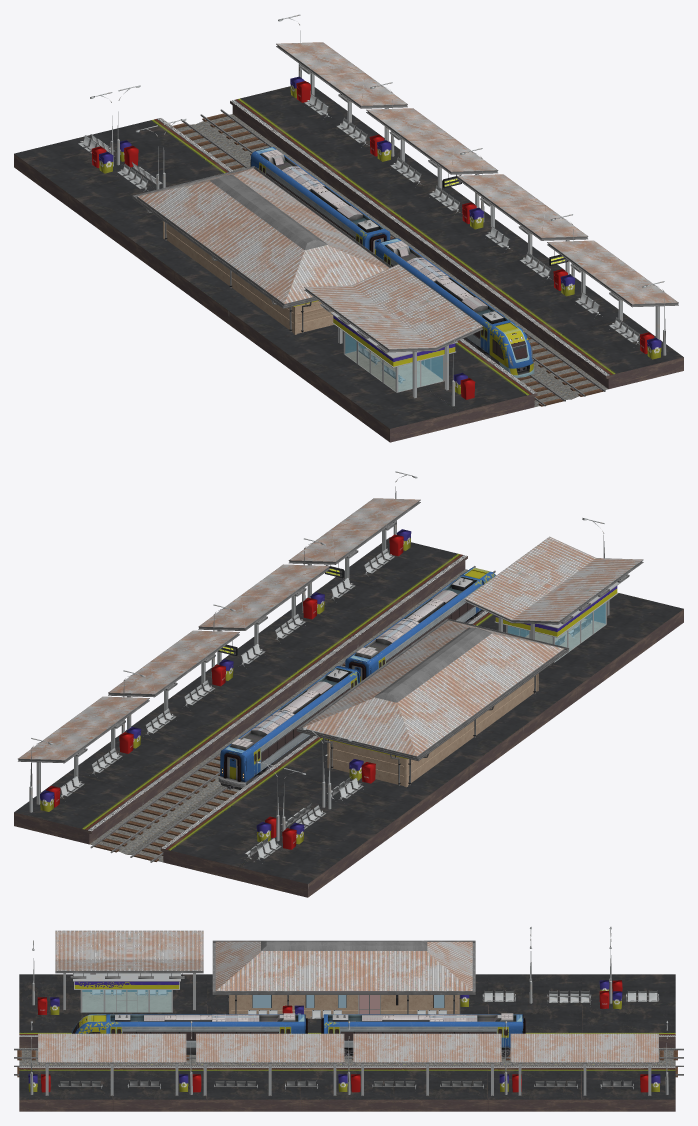
Rendered from train_ride.glb.
3 views of the same model, one above another, from view 1: azimuth 30°, elevation 25°; view 2: azimuth 150°, elevation 25°; view 3: azimuth 270°, elevation 25° (orthographic). The views are drawn at different scales.
Visible parts, largest first — view 1: Platform top.002, Platform top.001, Station roof, Waiting shed roof, Platform Bottom, Platform Bottom.001, Waiting shed post.001, Waiting shed post.002, Waiting shed post.003, Waiting shed post.004, Track rocks.001, Main station (+14 smaller); view 2: Platform top.002, Platform top.001, Station roof, Waiting shed roof, Platform Bottom, Platform Bottom.001, Waiting shed post.004, Main station, Track rocks.001, Waiting shed post.001, Waiting shed post.002, Waiting shed post.003 (+14 smaller); view 3: Platform top.001, Platform top.002, Station roof, Platform Bottom.001, Waiting shed roof, Waiting shed post.001, Waiting shed post.002, Waiting shed post.004, Waiting shed post.003, Main station, Car body.001, Roof topper (+18 smaller).
Part boxes in pixels (bbox=[...]): Platform top.002: bbox=[14, 118, 536, 428]; Platform top.001: bbox=[230, 82, 683, 375]; Station roof: bbox=[138, 168, 389, 303]; Waiting shed roof: bbox=[304, 264, 483, 352]; Platform Bottom: bbox=[14, 154, 537, 442]; Platform Bottom.001: bbox=[230, 101, 683, 388]; Waiting shed post.001: bbox=[547, 240, 678, 339]; Waiting shed post.002: bbox=[456, 174, 588, 274]; Waiting shed post.003: bbox=[366, 108, 498, 207]; Waiting shed post.004: bbox=[276, 42, 407, 141]; Track rocks.001: bbox=[196, 114, 608, 399]; Main station: bbox=[166, 223, 333, 333]; Platform top.002: bbox=[161, 593, 683, 883]; Platform top.001: bbox=[14, 537, 467, 831]; Station roof: bbox=[303, 620, 563, 756]; Waiting shed roof: bbox=[464, 536, 643, 624]; Platform Bottom: bbox=[160, 609, 683, 897]; Platform Bottom.001: bbox=[14, 556, 467, 844]; Waiting shed post.004: bbox=[18, 696, 149, 804]; Main station: bbox=[330, 675, 536, 785]; Track rocks.001: bbox=[89, 569, 467, 854]; Waiting shed post.001: bbox=[288, 498, 420, 597]; Waiting shed post.002: bbox=[198, 564, 330, 664]; Waiting shed post.003: bbox=[108, 630, 239, 729]; Platform top.001: bbox=[19, 1066, 675, 1099]; Platform top.002: bbox=[19, 974, 675, 1036]; Station roof: bbox=[215, 941, 472, 990]; Platform Bottom.001: bbox=[19, 1099, 675, 1111]; Waiting shed roof: bbox=[55, 930, 203, 973]; Waiting shed post.001: bbox=[38, 1033, 186, 1095]; Waiting shed post.002: bbox=[196, 1033, 344, 1095]; Waiting shed post.004: bbox=[510, 1033, 658, 1095]; Waiting shed post.003: bbox=[353, 1033, 501, 1095]; Main station: bbox=[231, 995, 457, 1018]; Car body.001: bbox=[324, 1014, 523, 1047]; Roof topper: bbox=[261, 940, 427, 950].
Bounding box in the file's own units: 38.55 × 10.94 × 85.58.
4 materials, 4 textured.
